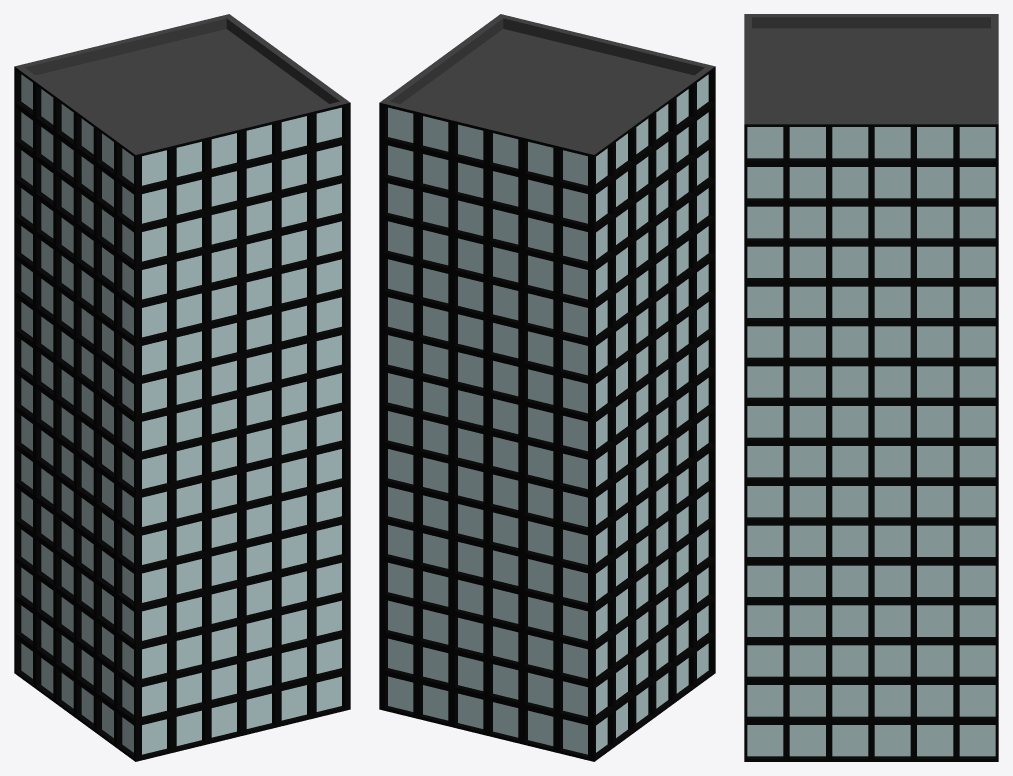
Rendered from Sky Scrapers 1.fbx.
3 renders of one model, left to right at view 1: azimuth 30°, elevation 25°; view 2: azimuth 150°, elevation 25°; view 3: azimuth 270°, elevation 25°, orthographic. The views are drawn at different scales.
Parts seen in each view (by area): view 1: Cube.001; view 2: Cube.001; view 3: Cube.001.
Part boxes in pixels (box(x1,y1,x2,y2)): Cube.001: box(14, 14, 350, 761); Cube.001: box(379, 14, 715, 761); Cube.001: box(744, 14, 998, 761).
Bounding box in the file's own units: 410 × 1105 × 400.
